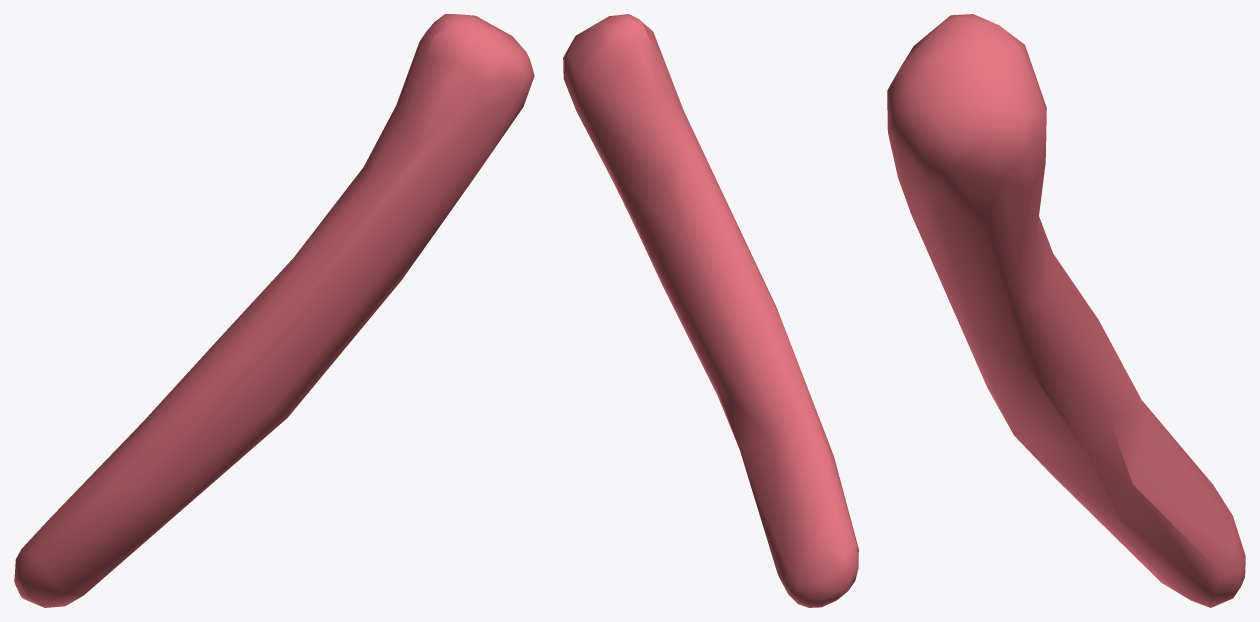
Rendered from fma69383_fj3565.glb.
3 views of the same model, side by side, from view 1: azimuth 30°, elevation 25°; view 2: azimuth 150°, elevation 25°; view 3: azimuth 270°, elevation 25° (orthographic). The views are drawn at different scales.
Visible parts, largest first — view 1: FMA69383_FJ3565; view 2: FMA69383_FJ3565; view 3: FMA69383_FJ3565.
Part boxes in pixels (x1,y1,x2,y2): FMA69383_FJ3565: (14,14,534,607); FMA69383_FJ3565: (563,14,858,607); FMA69383_FJ3565: (887,14,1245,607).
Size of the model in its own units: 0.0477 by 0.0612 by 0.025.
